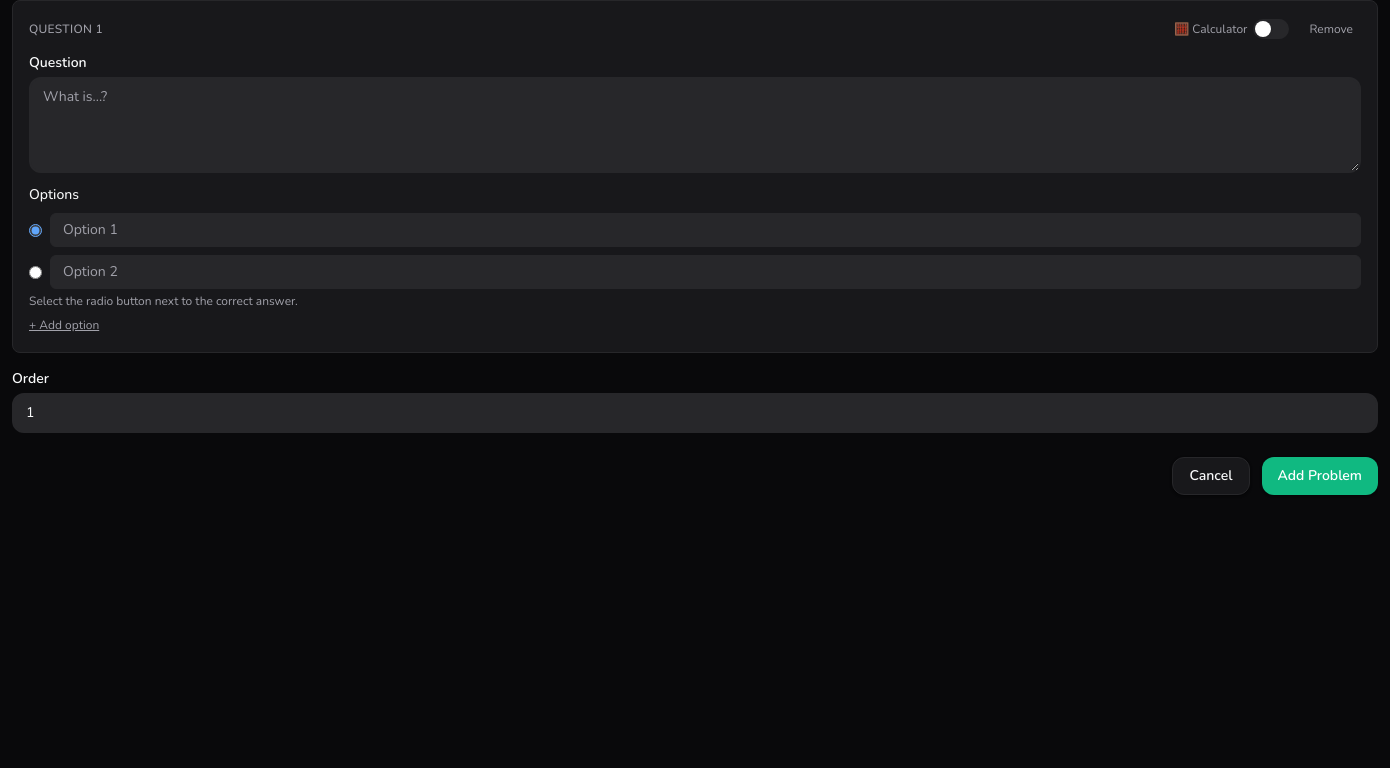
PracticeProblemForm › shows validation error when options are empty but question is filled
Type "Test question?" into the text box with placeholder "What is...?". click: (695, 125)
box: [29,77,1361,173]
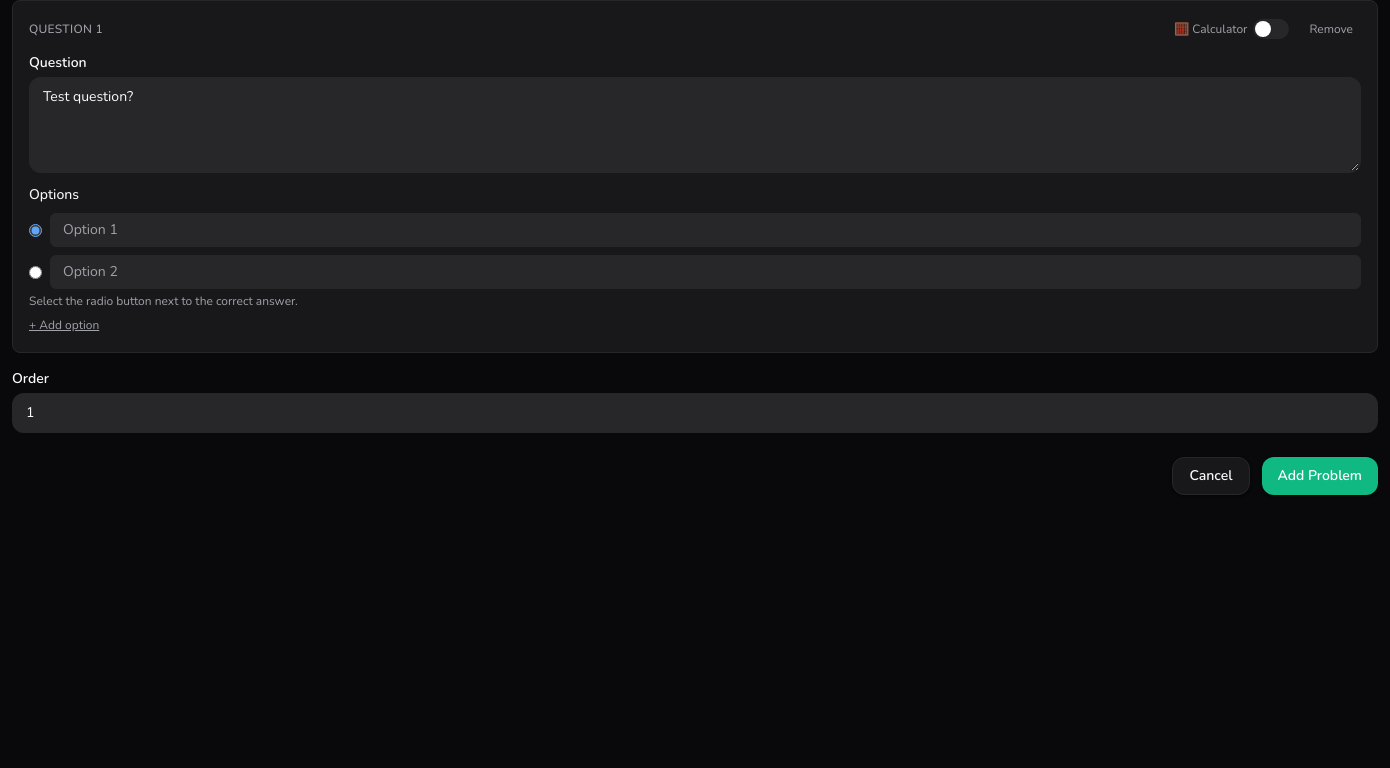
Click the button "Add Problem". click: (1320, 476)
box: [1262,457,1378,495]
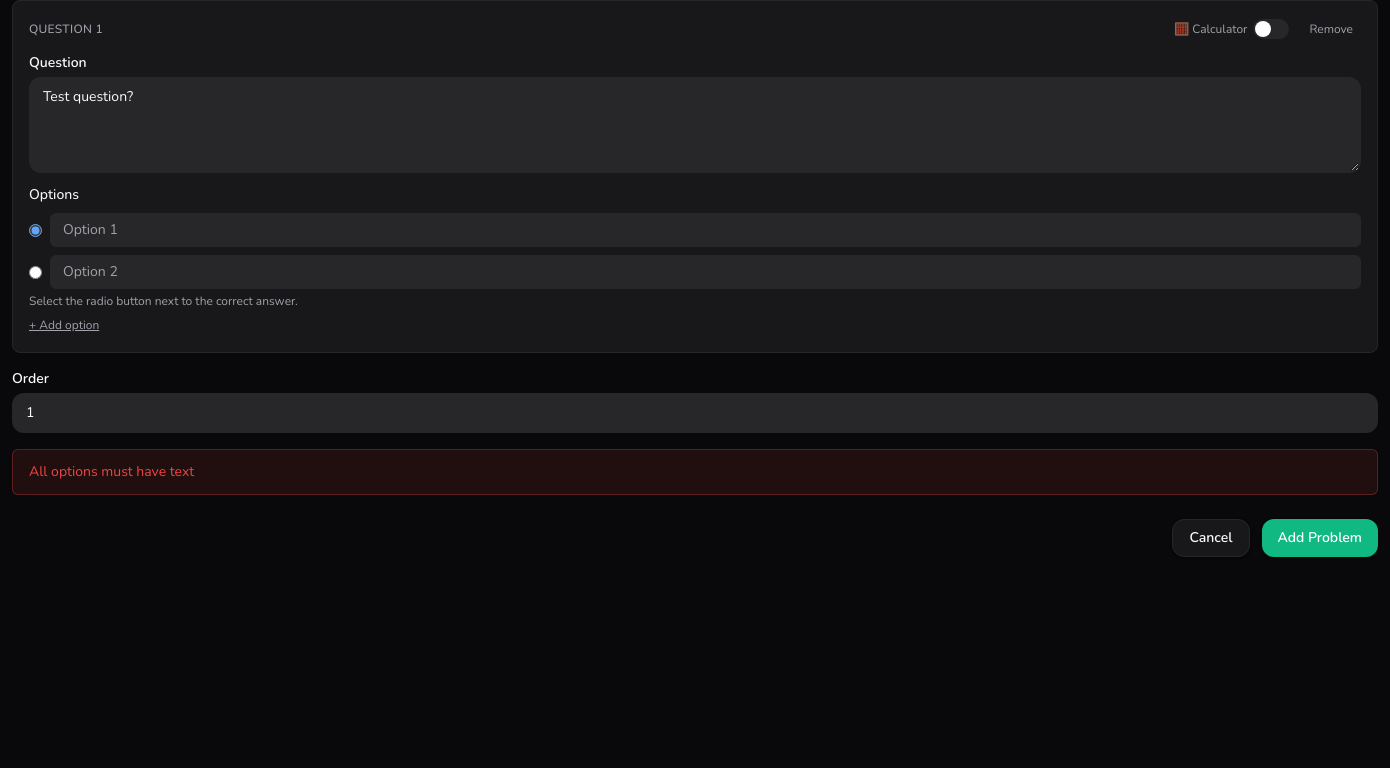
Now the text "All options must have text" is shown, box [12,449,1378,495]
